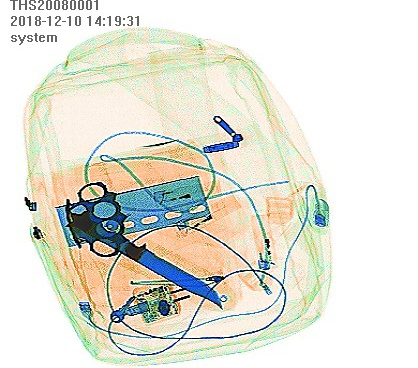knife: (63, 206, 224, 310)
lighter: (172, 191, 242, 237), (150, 176, 221, 204), (249, 213, 277, 270)
